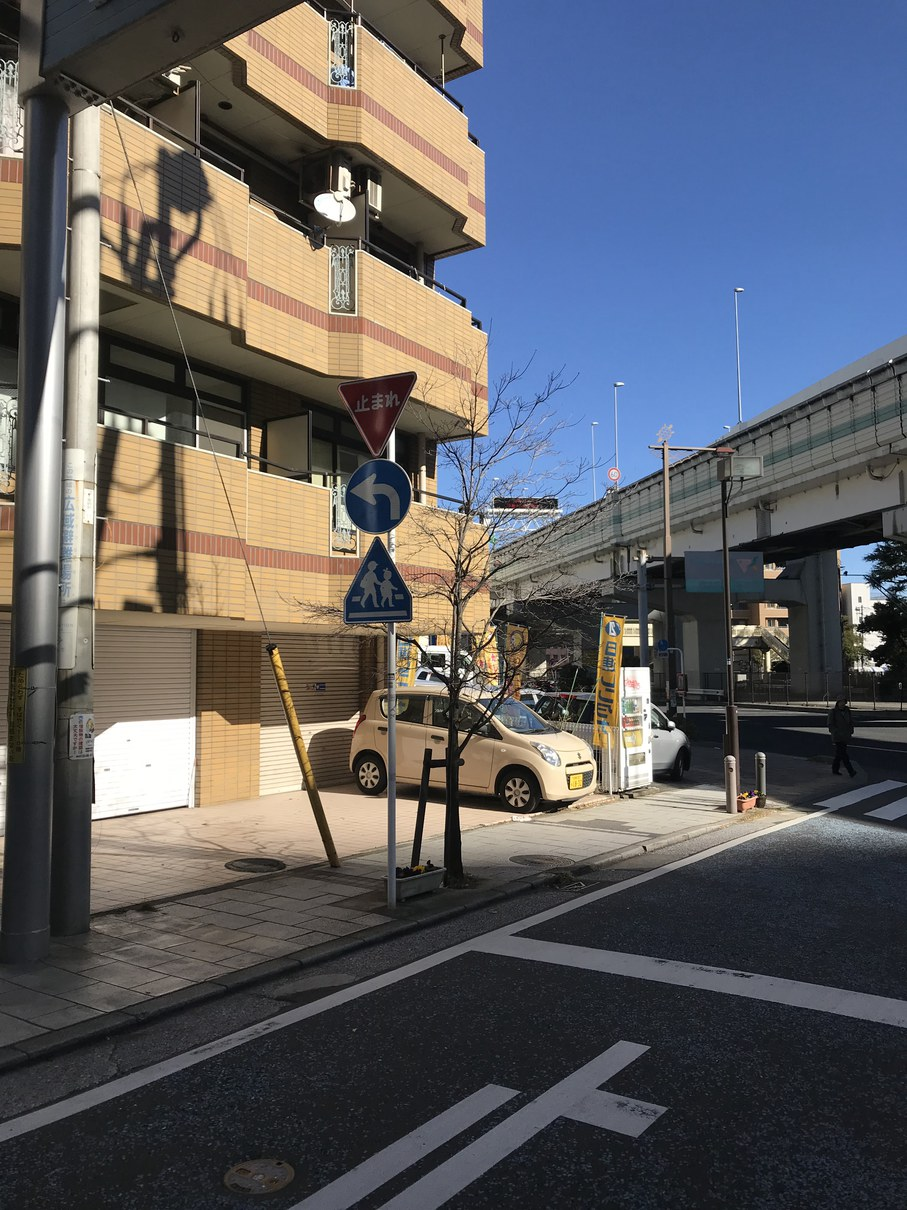stop_sign: (337, 366, 417, 456)
